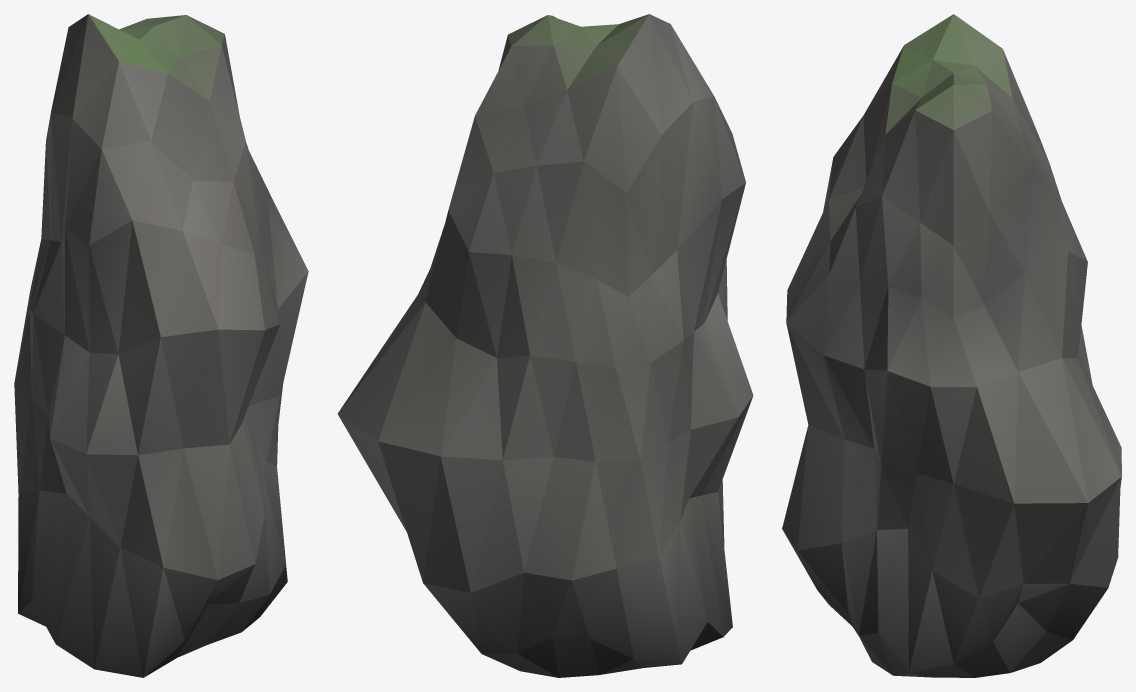
Rendered from Rock_Spire.glb.
3 views of the same model, side by side, from view 1: azimuth 30°, elevation 25°; view 2: azimuth 150°, elevation 25°; view 3: azimuth 270°, elevation 25° (orthographic). The views are drawn at different scales.
Visible parts, largest first — view 1: Rock_Spire; view 2: Rock_Spire; view 3: Rock_Spire.
Part boxes in pixels (box(x1,y1,x2,y2)): Rock_Spire: box(14, 14, 308, 677); Rock_Spire: box(337, 14, 753, 677); Rock_Spire: box(782, 14, 1121, 677).
Size of the model in its own units: 1.39 by 2.76 by 1.43.
